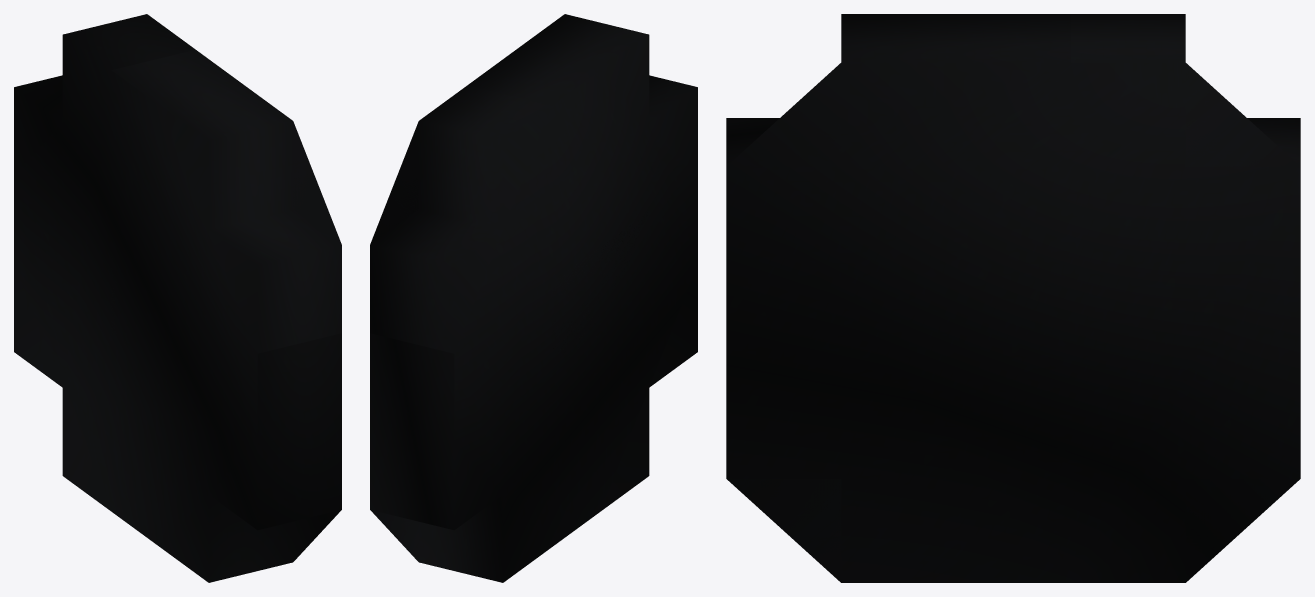
3 views of the same model, side by side, from view 1: azimuth 30°, elevation 25°; view 2: azimuth 150°, elevation 25°; view 3: azimuth 270°, elevation 25° (orthographic). The views are drawn at different scales.
Size of the model in its own units: 0.24 by 1.2 by 1.2.
Materials: 1 (1 with a texture image).
